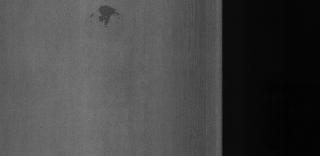oil spot: (91, 4, 119, 32)
